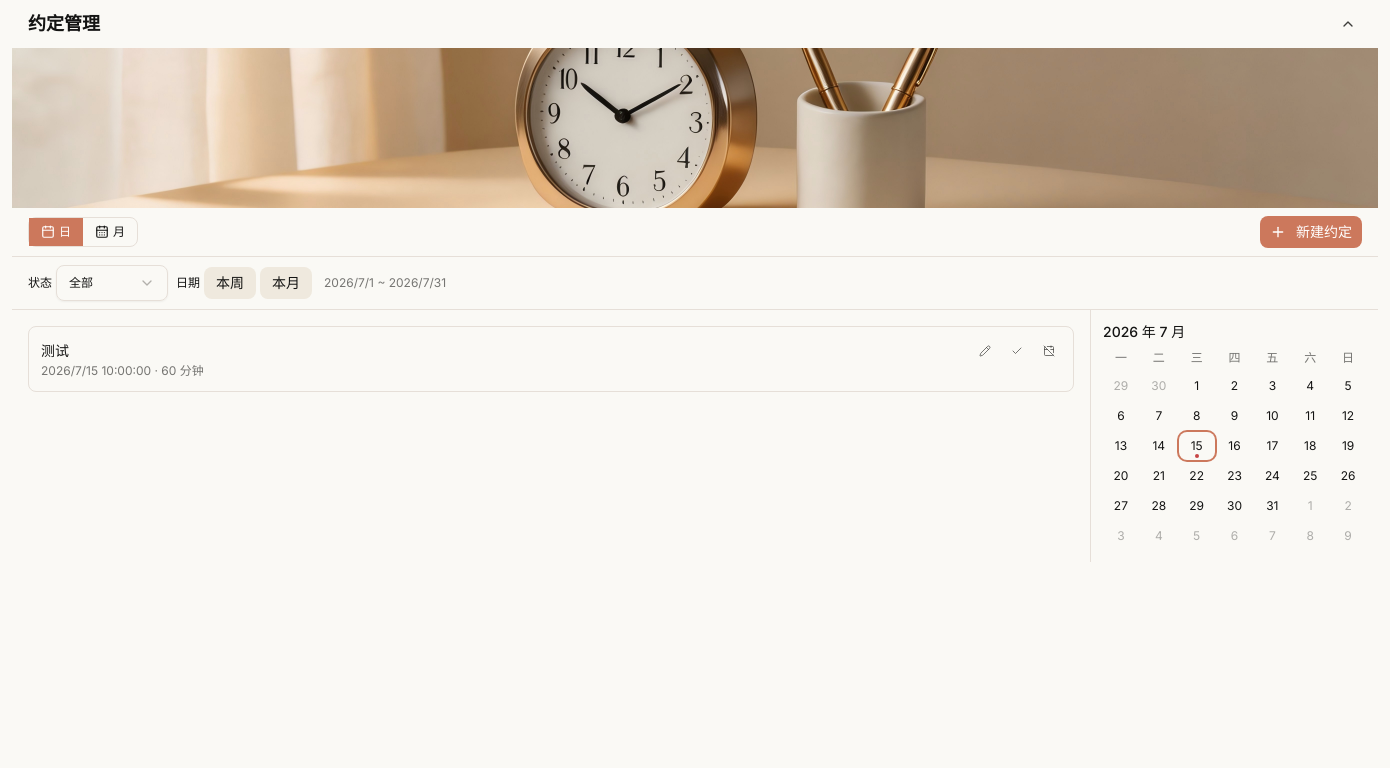
Test: [026] AppointmentWorkspace › MonthView 点日期切回 DayView 并设 selectedDate
The width and height of the screenshot is (1390, 768).
Click the button named "月视图" at point(110, 232), box [83,218,137,246]
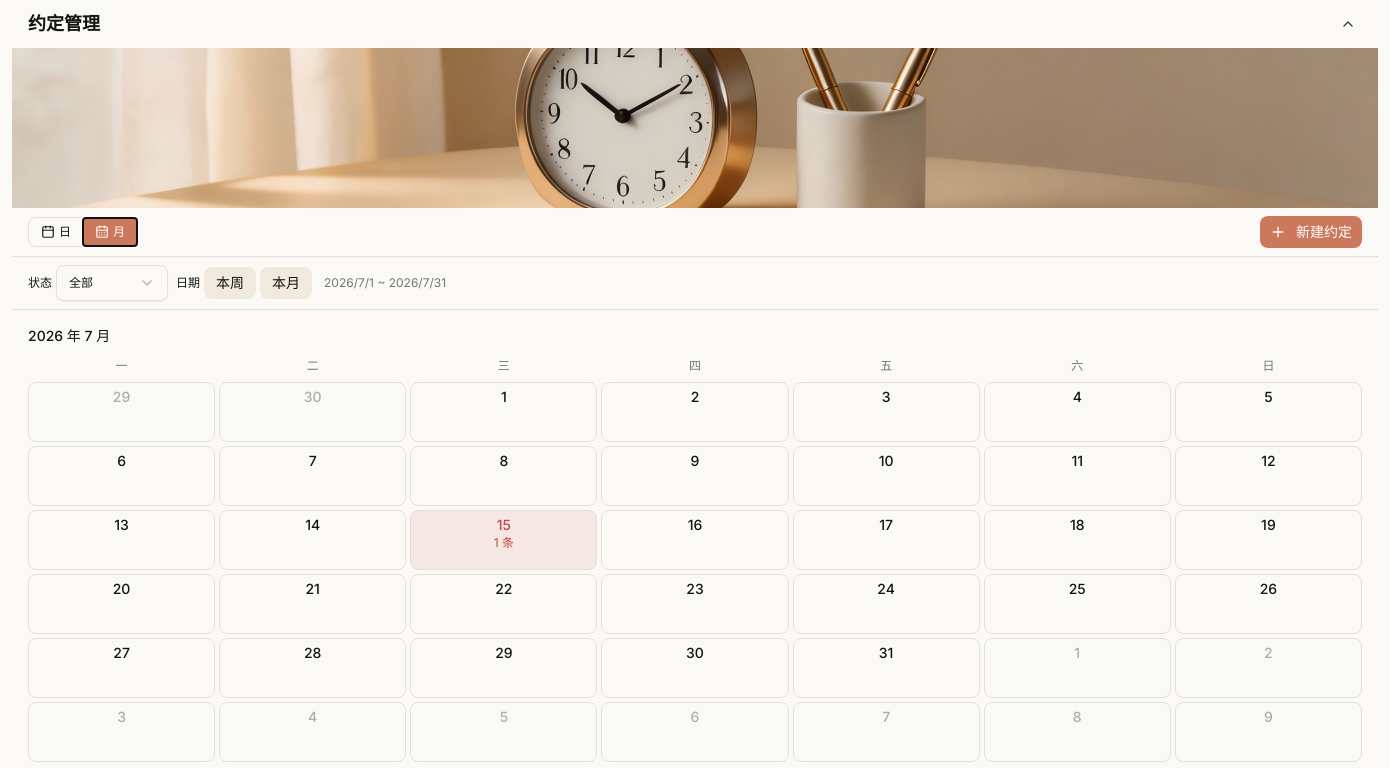
Expected: the cell "15 1 条" is shown
Click the cell "15 1 条" at point(504, 540), box [410,510,597,570]
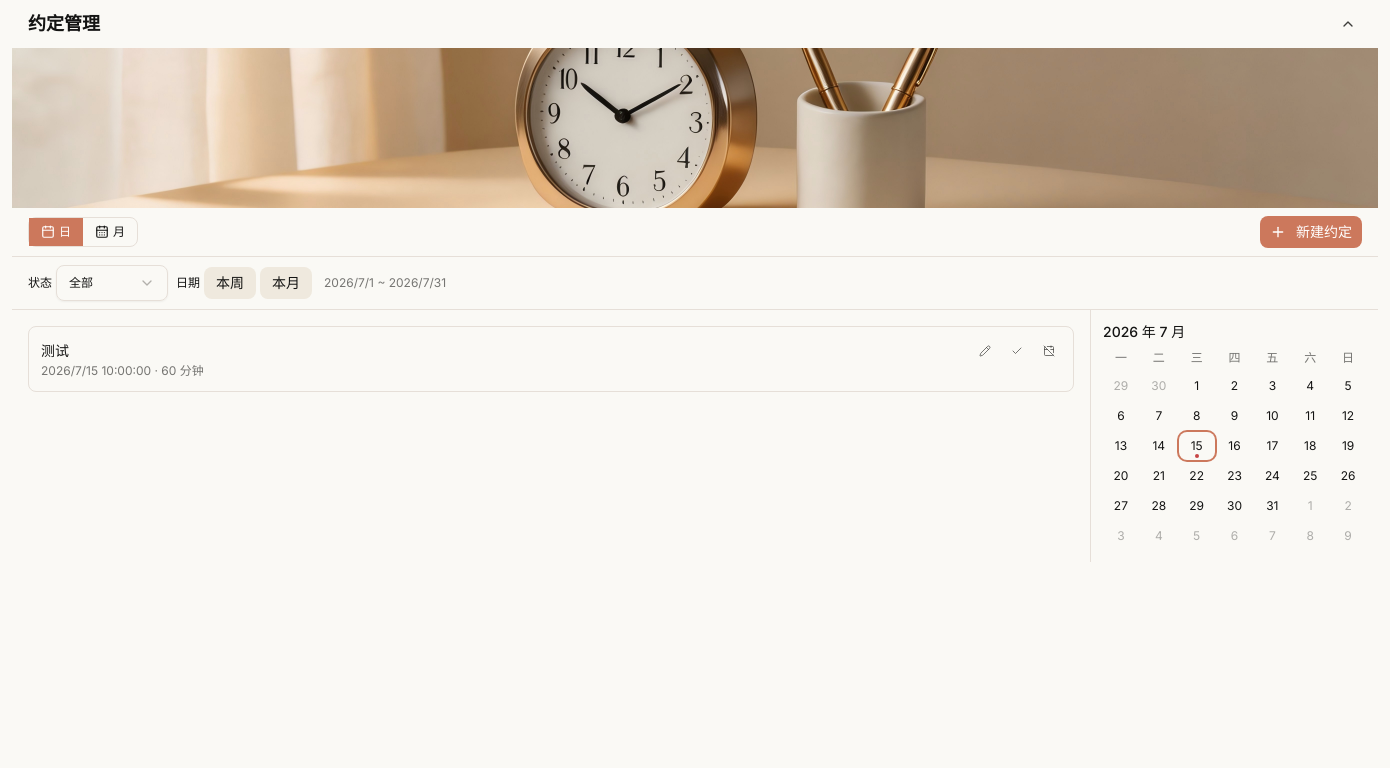
Expected: the element showing "测试 2026/7/15 10:00:00 · 60 分钟" is shown, [28,326,1074,392]
